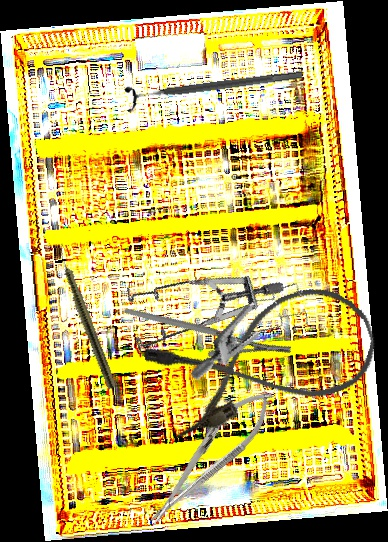Cannula: (139, 272, 388, 446)
Fixation Ring: (123, 60, 305, 114)
Handpiece: (52, 241, 119, 391)
Needle Holder: (134, 376, 286, 538), (123, 259, 294, 401)
Speculum: (108, 233, 287, 392), (188, 258, 322, 411)
